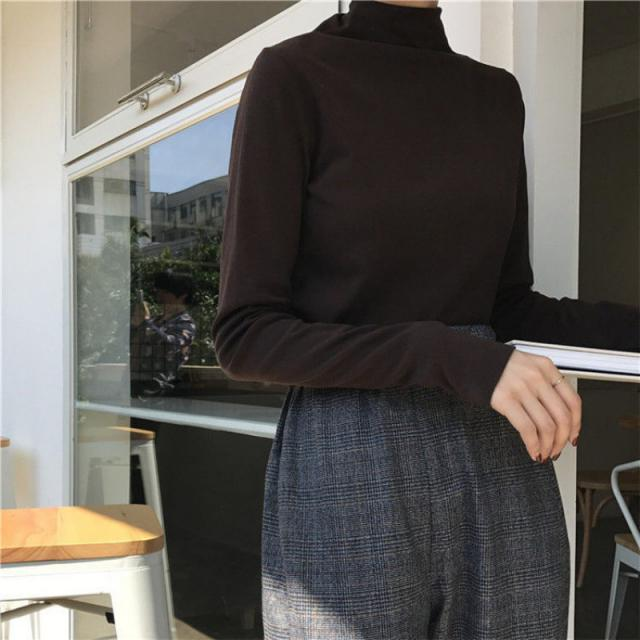Shirt: (212, 0, 640, 400)
